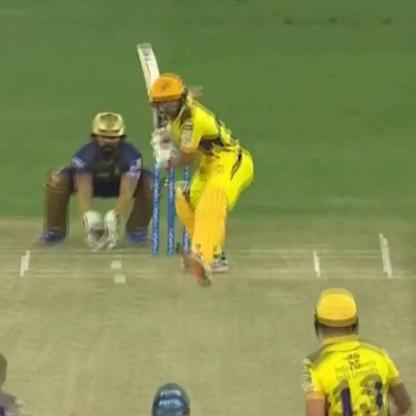ball: (105, 273, 134, 288), (105, 256, 124, 272)
bat: (130, 33, 178, 160)
pitch: (0, 233, 415, 415)
